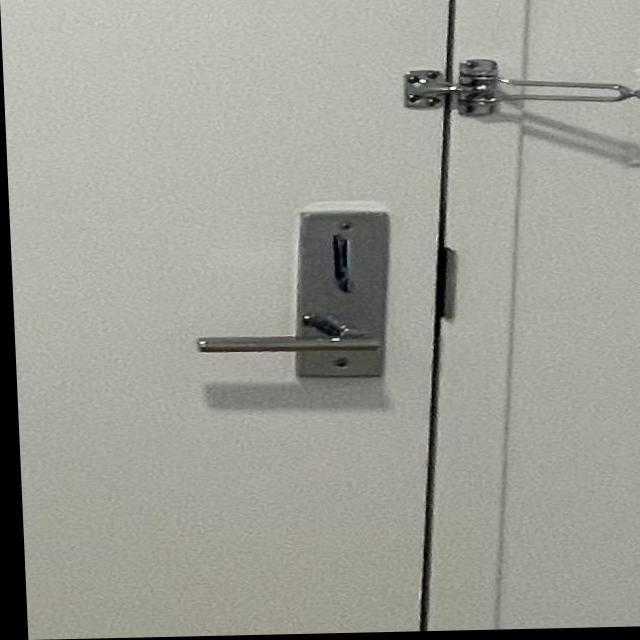door_handle: (177, 302, 415, 379)
